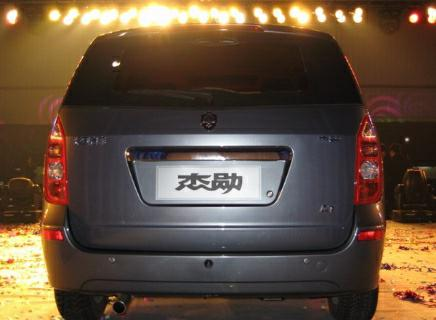长安-杰勋: (36, 21, 394, 320)
